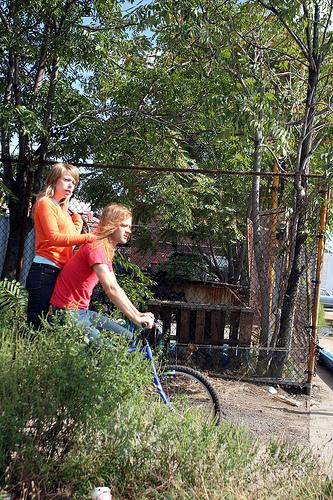car: (107, 321, 236, 427)
person: (47, 203, 157, 352), (26, 163, 102, 327)
